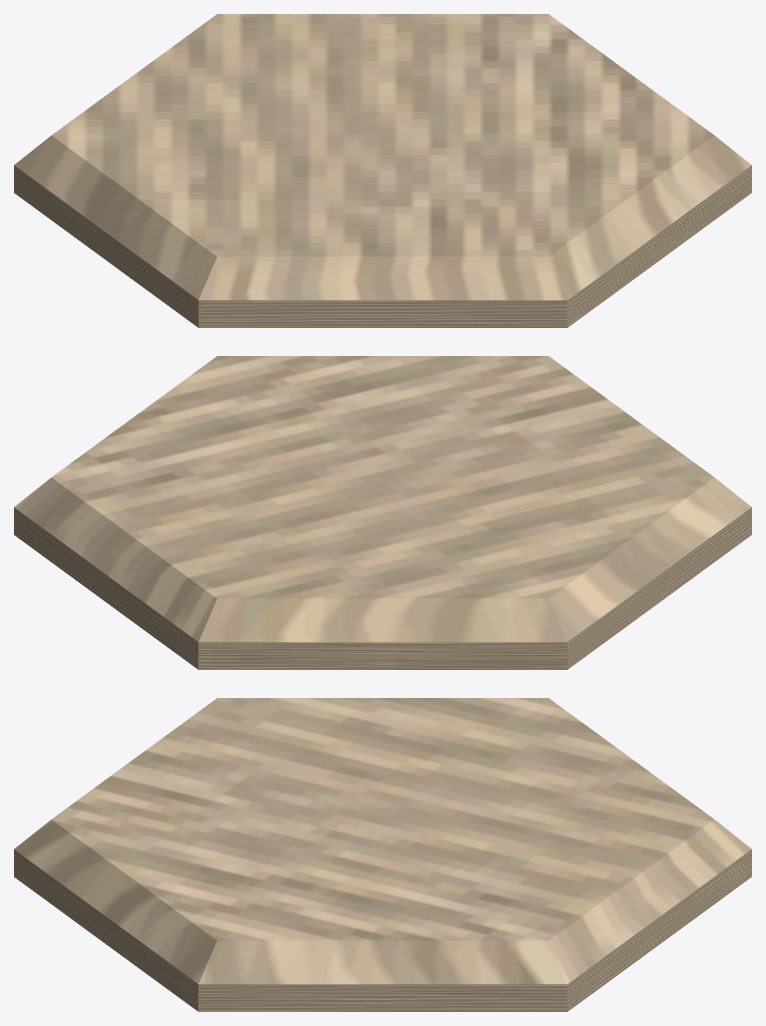
File: Island Hex.fbx
3 renders of one model, top to bottom at view 1: azimuth 30°, elevation 25°; view 2: azimuth 150°, elevation 25°; view 3: azimuth 270°, elevation 25°, orthographic.
Visible parts, largest first — view 1: TexturesCom_Branches0030_1_S.004; view 2: TexturesCom_Branches0030_1_S.004; view 3: TexturesCom_Branches0030_1_S.004.
Boxes of the visible parts, <box> form: TexturesCom_Branches0030_1_S.004: <box>14,14,751,327</box>; TexturesCom_Branches0030_1_S.004: <box>14,356,751,669</box>; TexturesCom_Branches0030_1_S.004: <box>14,698,751,1011</box>.
Size of the model in its own units: 173 by 17.2 by 200.
1 material, 1 textured.
